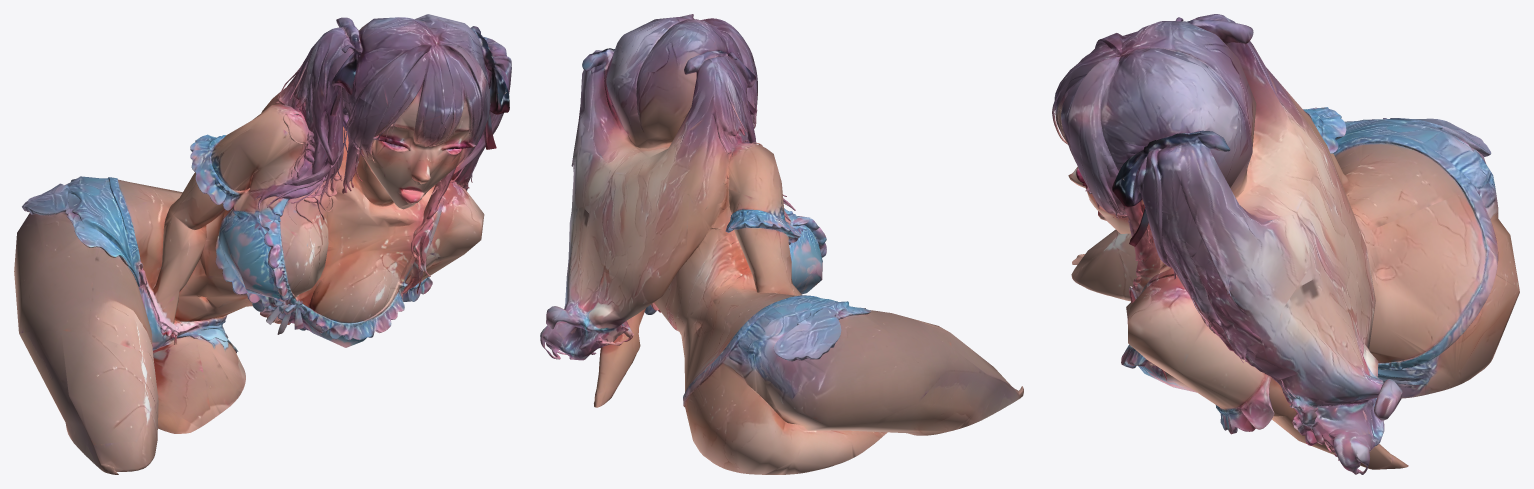
3 renders of one model, left to right at view 1: azimuth 30°, elevation 25°; view 2: azimuth 150°, elevation 25°; view 3: azimuth 270°, elevation 25°, orthographic. The views are drawn at different scales.
Parts seen in each view (by area): view 1: model; view 2: model; view 3: model.
Part boxes in pixels (<box>): model: <box>14,14,511,474</box>; model: <box>540,14,1023,474</box>; model: <box>1052,14,1519,474</box>.
Size of the model in its own units: 2.16 by 1.65 by 1.61.
Materials: 1 (1 with a texture image).
